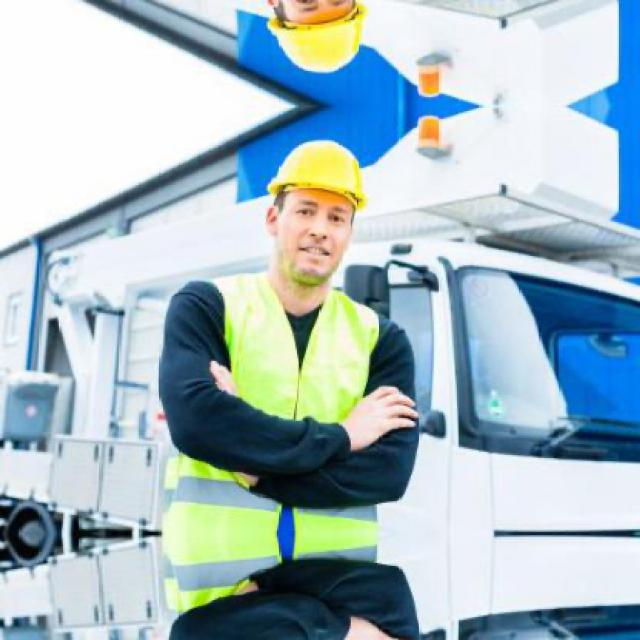helmet: (260, 134, 372, 284), (260, 0, 374, 80)
